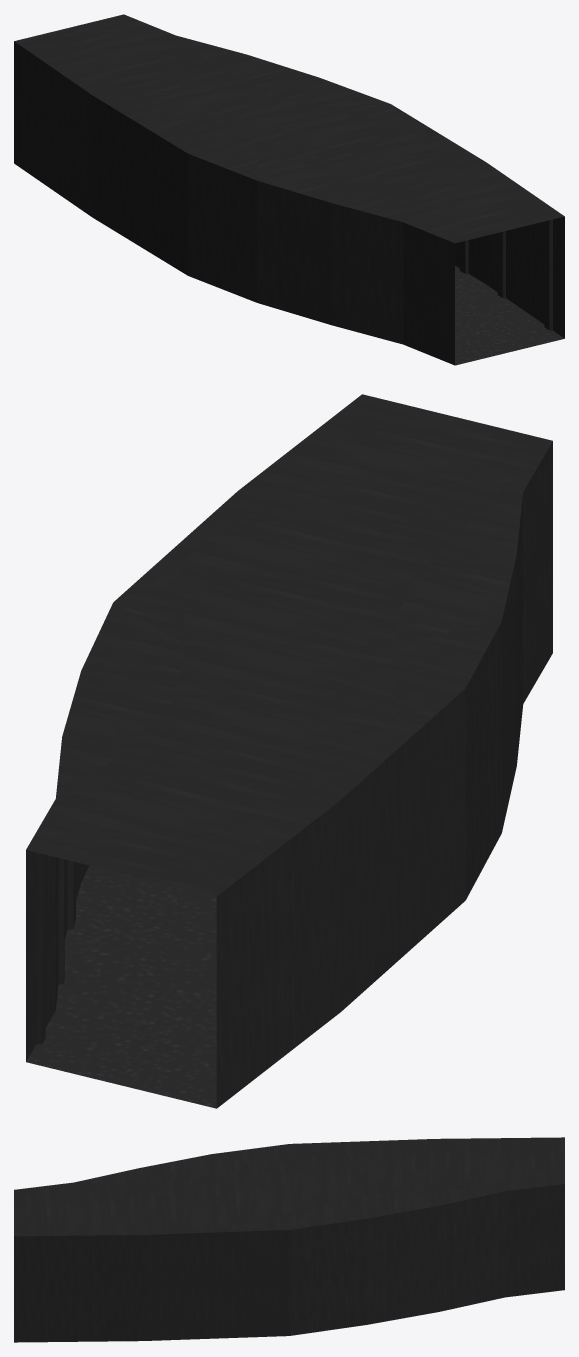
The model's file is SW_ENV_RailTunnel_Jog.fbx.
The picture shows the model from 3 angles, top to bottom: view 1: azimuth 30°, elevation 25°; view 2: azimuth 150°, elevation 25°; view 3: azimuth 270°, elevation 25°; orthographic projection. The views are drawn at different scales.
Parts seen in each view (by area): view 1: SW_ENV_RailTunnel_Jog; view 2: SW_ENV_RailTunnel_Jog; view 3: SW_ENV_RailTunnel_Jog.
Boxes of the visible parts, x1,y1,x2,y2 form: SW_ENV_RailTunnel_Jog: (14,14,564,365); SW_ENV_RailTunnel_Jog: (26,394,552,1108); SW_ENV_RailTunnel_Jog: (14,1137,564,1342).
Size of the model in its own units: 850 by 425 by 2000.
